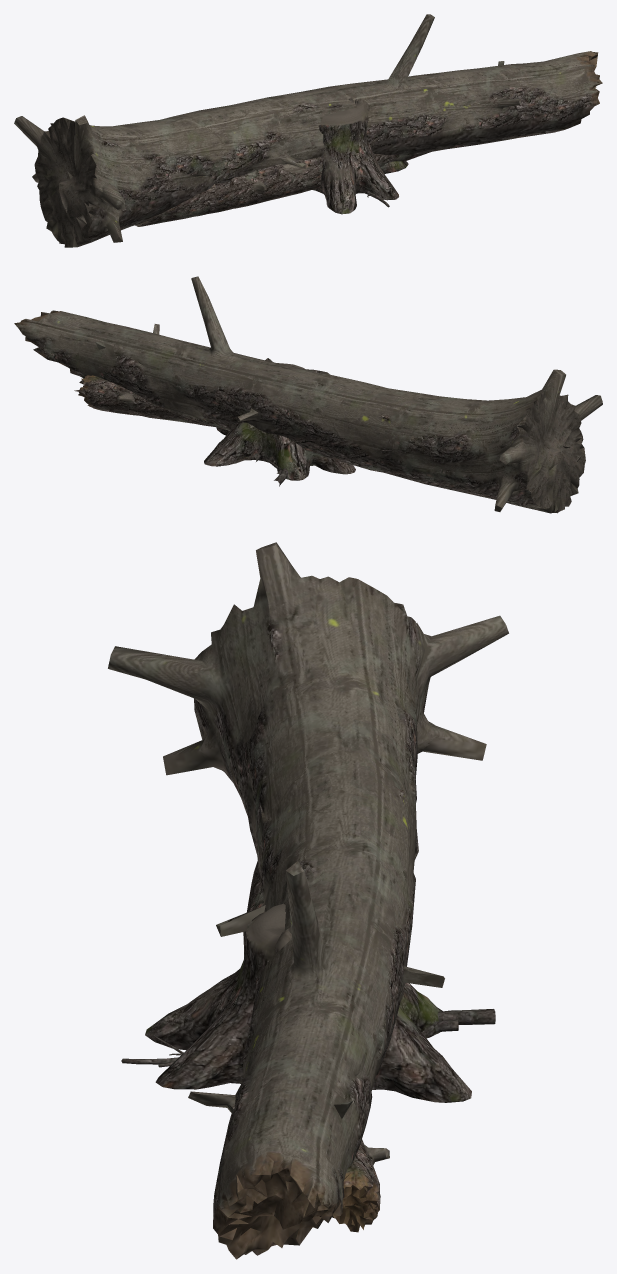
File: alpine-deadwood.glb
The picture shows the model from 3 angles, top to bottom: view 1: azimuth 30°, elevation 25°; view 2: azimuth 150°, elevation 25°; view 3: azimuth 270°, elevation 25°; orthographic projection. The views are drawn at different scales.
Visible parts, largest first — view 1: log_windthrow, stump, log_fallen; view 2: log_windthrow, stump, log_fallen; view 3: log_windthrow, stump, log_fallen, branch_a.
Boxes of the visible parts, <box> form: log_windthrow: <box>14,14,602,247</box>; stump: <box>312,97,408,214</box>; log_fallen: <box>135,152,430,226</box>; log_windthrow: <box>14,276,602,513</box>; stump: <box>204,358,355,480</box>; log_fallen: <box>74,375,214,426</box>; log_windthrow: <box>108,542,508,1259</box>; stump: <box>145,903,471,1102</box>; log_fallen: <box>243,860,389,1232</box>; branch_a: <box>121,1009,495,1064</box>.
Size of the model in its own units: 4.05 by 1.02 by 1.29.
Materials: 1 (1 with a texture image).
